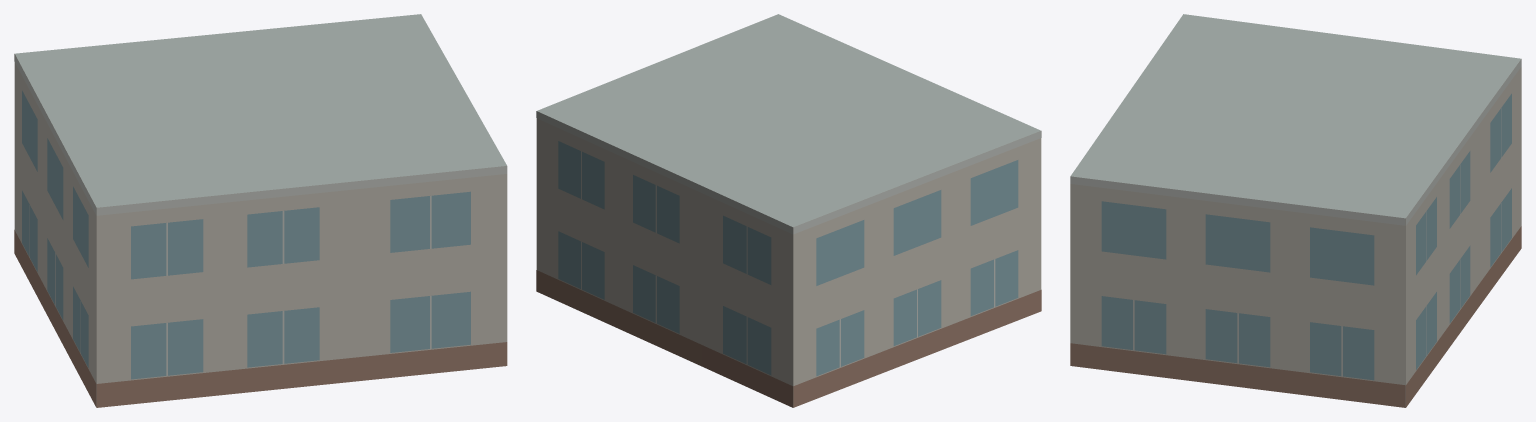
The model's file is survey-upis-32874458.glb.
3 renders of one model, left to right at view 1: azimuth 30°, elevation 25°; view 2: azimuth 150°, elevation 25°; view 3: azimuth 270°, elevation 25°, orthographic. The views are drawn at different scales.
Parts seen in each view (by area): view 1: survey-upis-32874458.tmp; view 2: survey-upis-32874458.tmp; view 3: survey-upis-32874458.tmp.
Boxes of the visible parts, x1,y1,x2,y2 form: survey-upis-32874458.tmp: (14, 14, 507, 407); survey-upis-32874458.tmp: (536, 14, 1041, 407); survey-upis-32874458.tmp: (1070, 14, 1521, 407).
Size of the model in its own units: 14.11 by 6.1 by 13.17.
